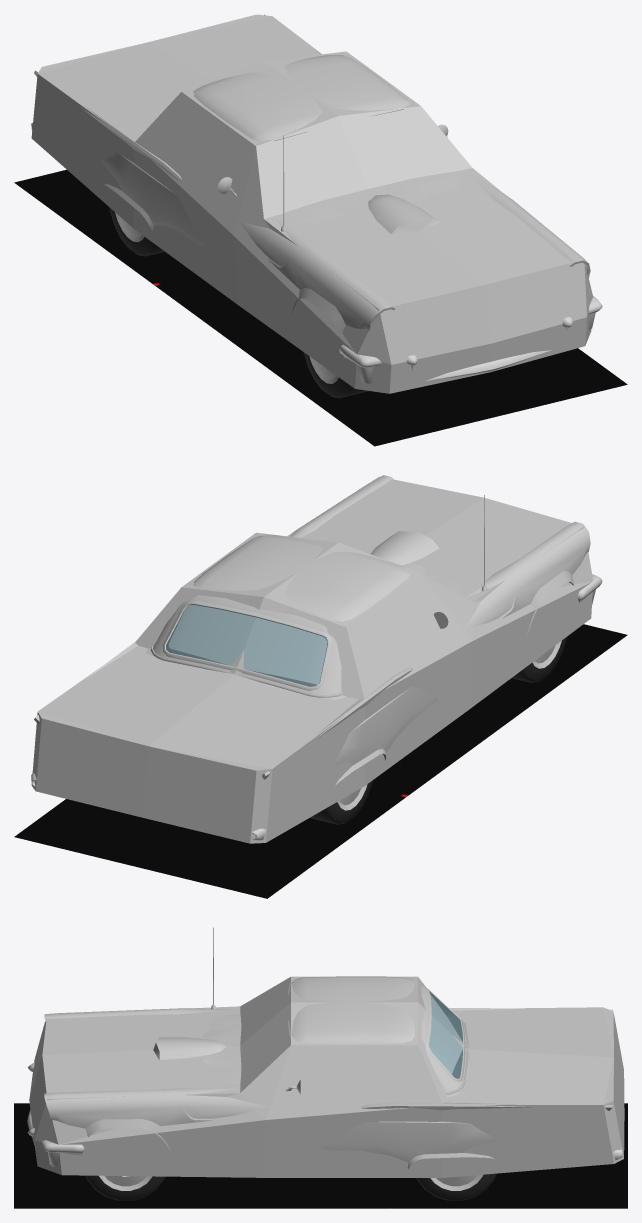
File: Thunder.fbx
3 views of the same model, one above another, from view 1: azimuth 30°, elevation 25°; view 2: azimuth 150°, elevation 25°; view 3: azimuth 270°, elevation 25° (orthographic). The views are drawn at different scales.
Parts seen in each view (by area): view 1: Thunder_body_col, Thunder_body, CarShadow, Thunder_wheel_FR, Thunder_wheel_RR; view 2: Thunder_body_col, Thunder_body, CarShadow, Thunder_wheel_RR, Thunder_wheel_FR; view 3: Thunder_body_col, Thunder_body, CarShadow, Thunder_wheel_FL, Thunder_wheel_RL.
Boxes of the visible parts, x1,y1,x2,y2 form: Thunder_body_col: (31,14,592,393); Thunder_body: (31,14,602,383); CarShadow: (14,169,627,446); Thunder_wheel_FR: (303,352,368,398); Thunder_wheel_RR: (109,207,164,256); Thunder_body_col: (31,476,592,843); Thunder_body: (31,475,602,840); CarShadow: (14,624,627,898); Thunder_wheel_RR: (310,780,373,824); Thunder_wheel_FR: (512,636,567,682); Thunder_body_col: (29,976,624,1177); Thunder_body: (27,927,622,1168); CarShadow: (14,1103,627,1208); Thunder_wheel_FL: (86,1175,165,1200); Thunder_wheel_RL: (416,1173,496,1200).
Size of the model in its own units: 1.86 by 1.54 by 4.59.
